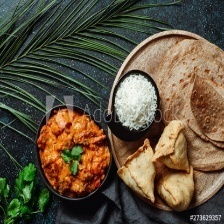rice: (105, 67, 164, 135)
